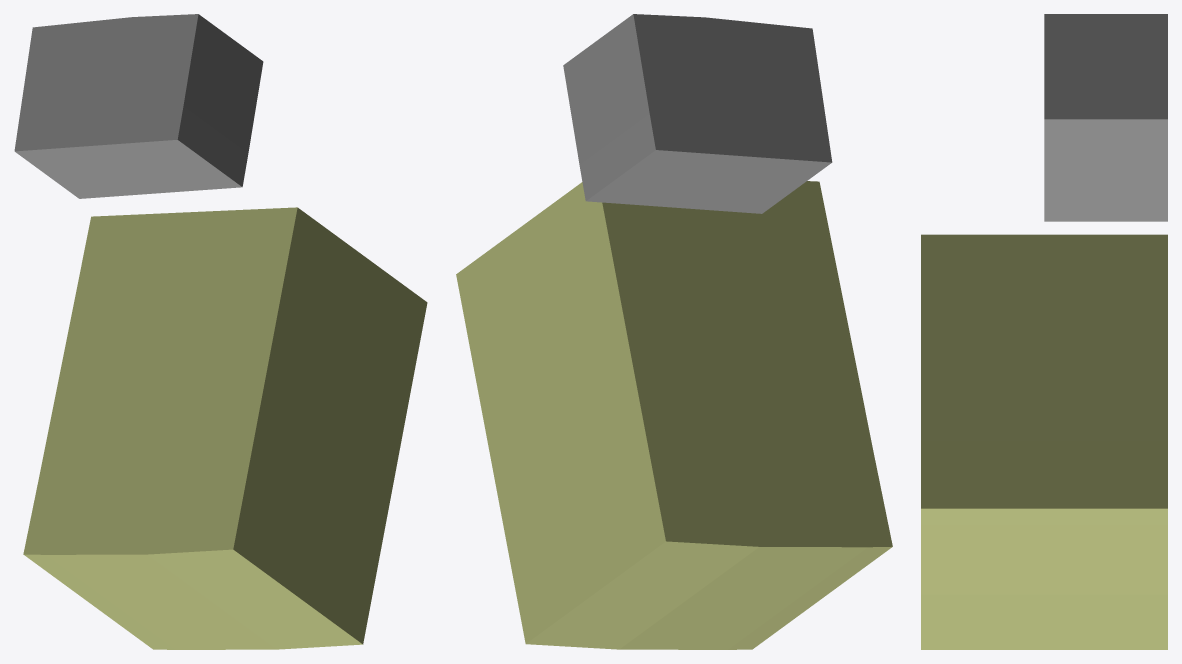
3 views of the same model, side by side, from view 1: azimuth 30°, elevation 25°; view 2: azimuth 150°, elevation 25°; view 3: azimuth 270°, elevation 25° (orthographic). The views are drawn at different scales.
Parts seen in each view (by area): view 1: 0_1_2_0_0_2_2_0_0_3_3; view 2: 0_1_2_0_0_2_2_0_0_3_3; view 3: 0_1_2_0_0_2_2_0_0_3_3.
Boxes of the visible parts, bbox=[...] form: 0_1_2_0_0_2_2_0_0_3_3: bbox=[14, 14, 427, 649]; 0_1_2_0_0_2_2_0_0_3_3: bbox=[456, 14, 892, 649]; 0_1_2_0_0_2_2_0_0_3_3: bbox=[921, 14, 1167, 649].
Bounding box in the file's own units: 7.55 × 14.56 × 6.
